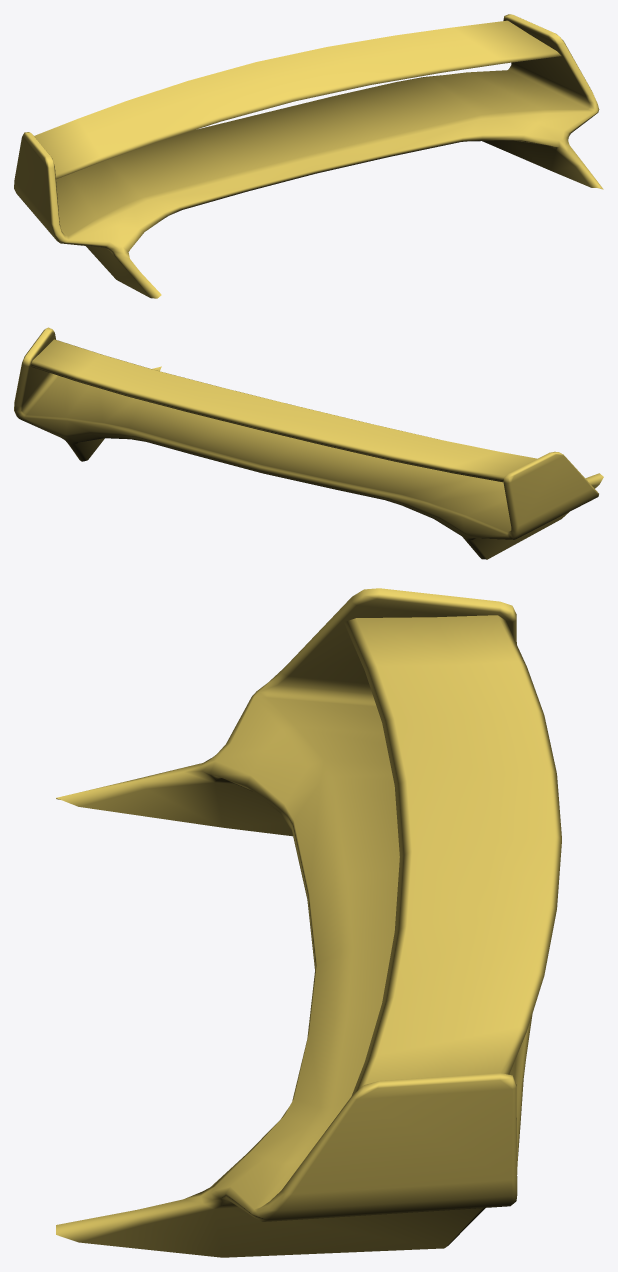
File: Supra_Spoiler_04_Duco.fbx
3 renders of one model, top to bottom at view 1: azimuth 30°, elevation 25°; view 2: azimuth 150°, elevation 25°; view 3: azimuth 270°, elevation 25°, orthographic. The views are drawn at different scales.
Parts seen in each view (by area): view 1: Supra_Spoiler_04_Duco; view 2: Supra_Spoiler_04_Duco; view 3: Supra_Spoiler_04_Duco.
Boxes of the visible parts, x1,y1,x2,y2 form: Supra_Spoiler_04_Duco: (14, 14, 603, 298); Supra_Spoiler_04_Duco: (14, 327, 603, 559); Supra_Spoiler_04_Duco: (56, 588, 561, 1257).
Bounding box in the file's own units: 148 × 27.91 × 59.73.
